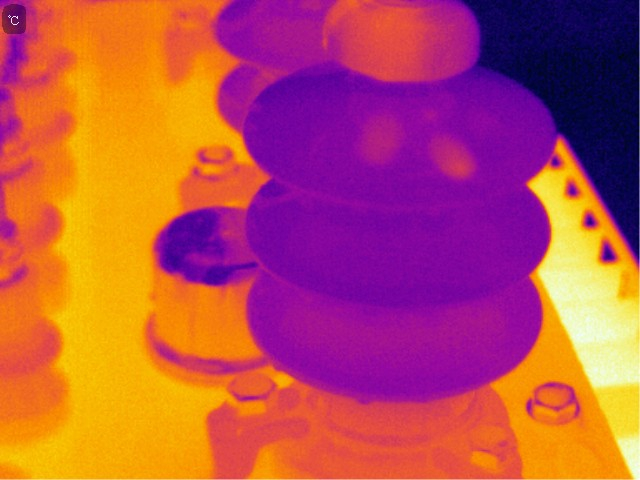Oil: (311, 1, 448, 87), (354, 109, 407, 170), (424, 133, 484, 183), (355, 391, 374, 407), (269, 357, 285, 372)
